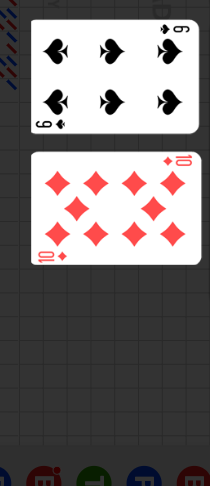10D: (36, 249, 69, 263)
6S: (157, 23, 191, 36)
